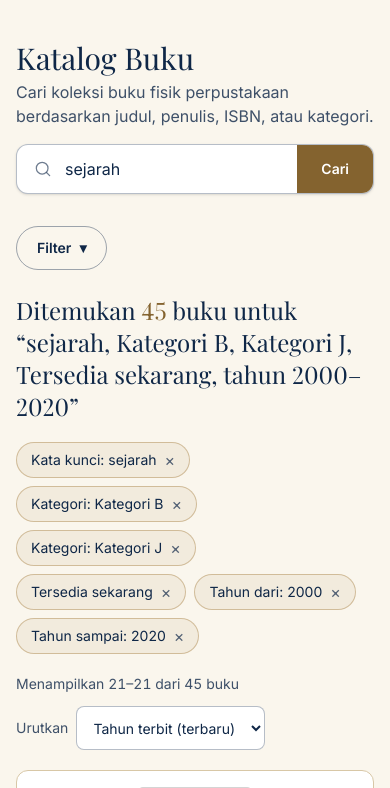
Scenario: Katalog /katalog — filter & urutan (OQ-44, hal-03/04) › OQ_44_tombol_filter_mobile_aria_expanded
Click the button "Filter ▾": {"x": 62, "y": 248} [16,226,107,270]
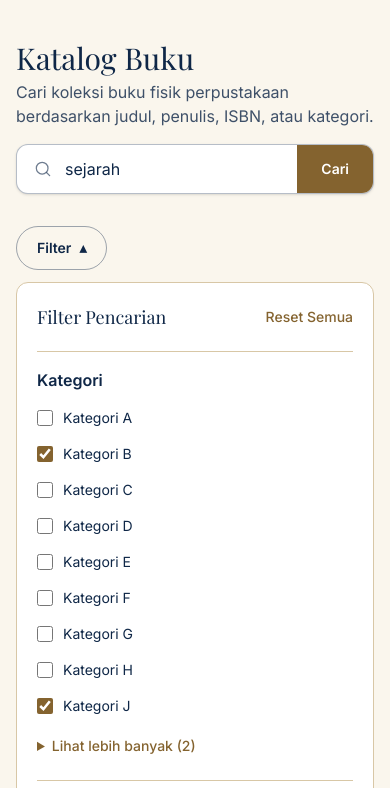
Check: the button "Filter ▴" is expanded, box [16,226,107,270]
